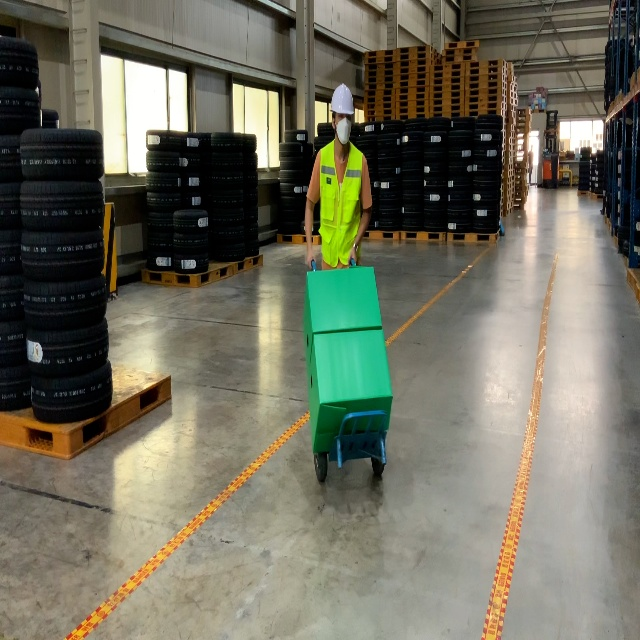Box: (307, 328, 393, 454), (302, 266, 382, 371)
Worker: (304, 82, 373, 269)
